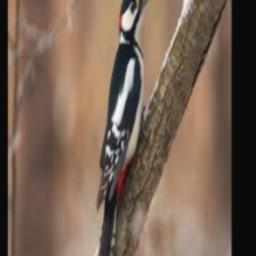Woodpecker: (97, 0, 153, 256)
